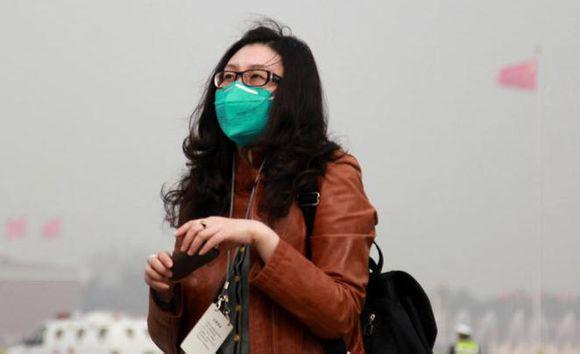OK: (216, 62, 281, 139)
